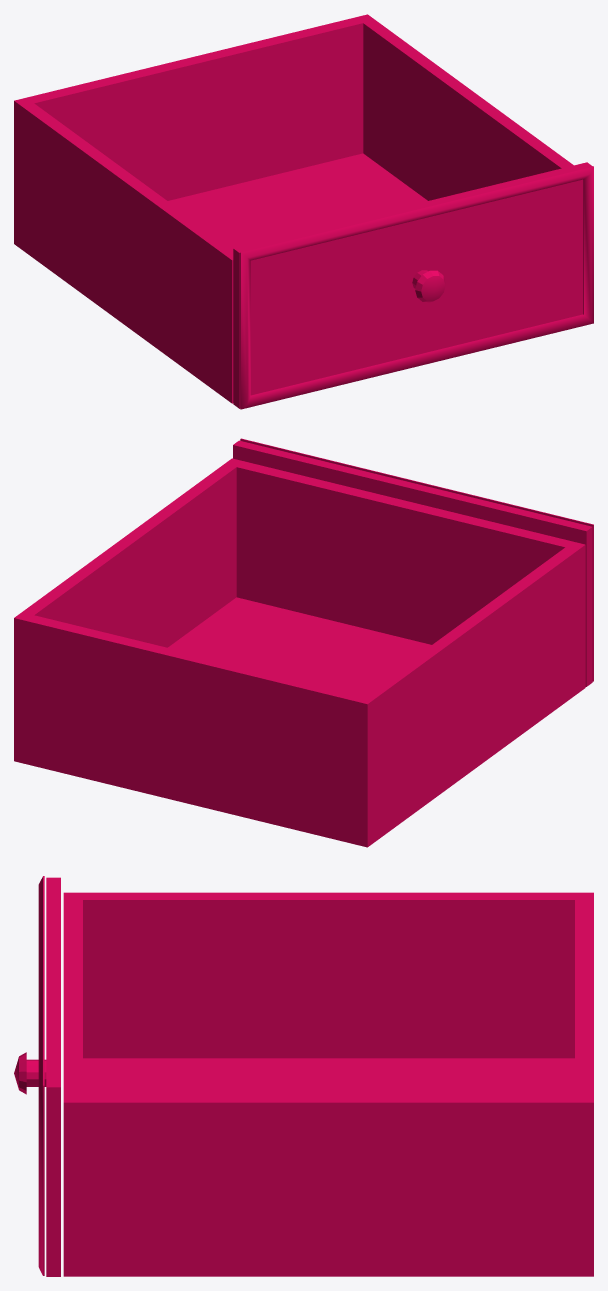
File: Cupboard_05_Drawer.fbx
3 renders of one model, top to bottom at view 1: azimuth 30°, elevation 25°; view 2: azimuth 150°, elevation 25°; view 3: azimuth 270°, elevation 25°, orthographic. The views are drawn at different scales.
Parts seen in each view (by area): view 1: Cupboard_05_Drawer; view 2: Cupboard_05_Drawer; view 3: Cupboard_05_Drawer.
Part boxes in pixels (left/top/right/bottom): Cupboard_05_Drawer: left=14, top=14, right=593, bottom=409; Cupboard_05_Drawer: left=14, top=438, right=593, bottom=847; Cupboard_05_Drawer: left=14, top=876, right=593, bottom=1276.
Bounding box in the file's own units: 44.84 × 19.02 × 52.37.
